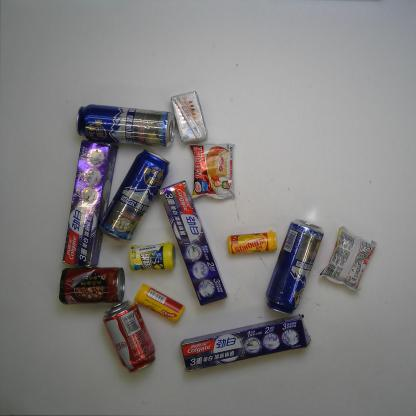Alcohol: (99, 148, 171, 244), (265, 218, 325, 315), (75, 103, 176, 148)
Candy: (134, 283, 186, 323), (227, 229, 278, 255)
Canned Food: (58, 265, 126, 306)
Dessert: (318, 226, 378, 291), (189, 142, 236, 200)
Drink: (102, 299, 157, 375)
Gum: (128, 240, 176, 272)
Milk: (170, 90, 208, 144)
Personal Hygiene: (158, 179, 228, 307), (180, 314, 312, 373), (61, 138, 119, 270)
